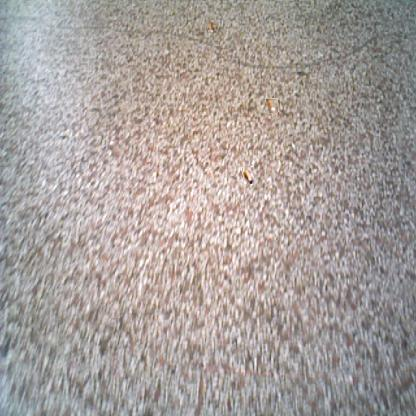dirty: (242, 166, 254, 184), (266, 99, 279, 113), (207, 22, 217, 32)
